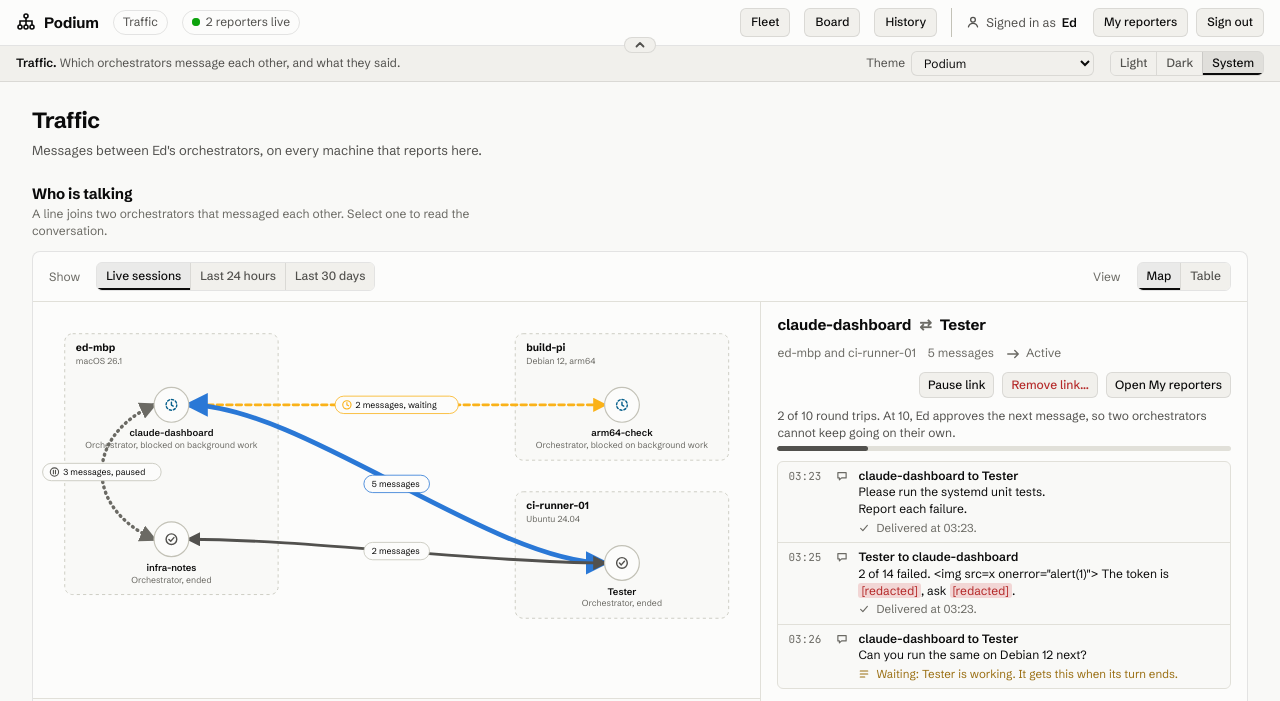
Scenario: the conversation, for its owner › says a failed pause failed, and that the link is unchanged
Click the button "Pause link": [957, 385] box [919,372,994,398]
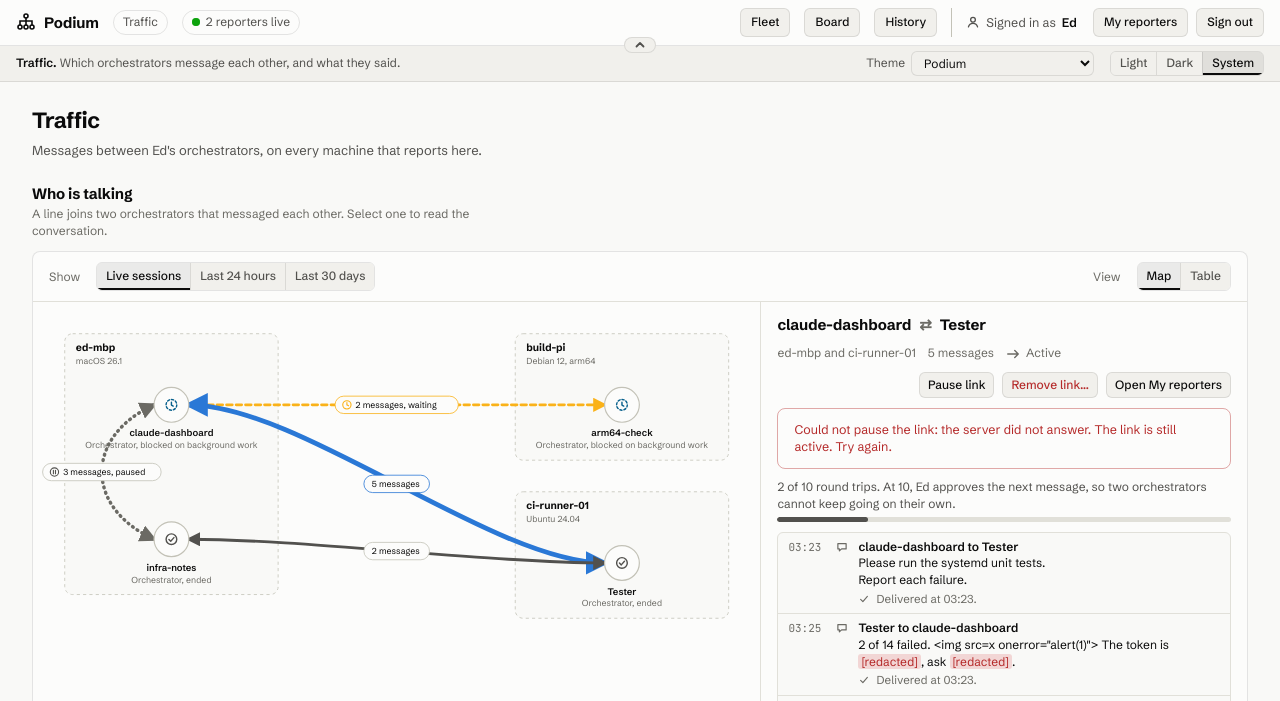
Expected: the 2nd message shows "Could not pause the link: the server did not answer. The link is still active. Try again.", [794,422,1176,454]
